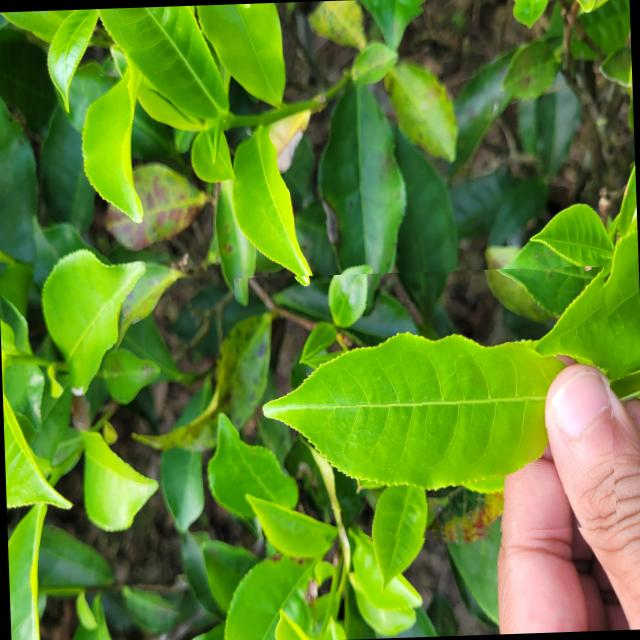Category B 2-4 days: (234, 264, 617, 548)
